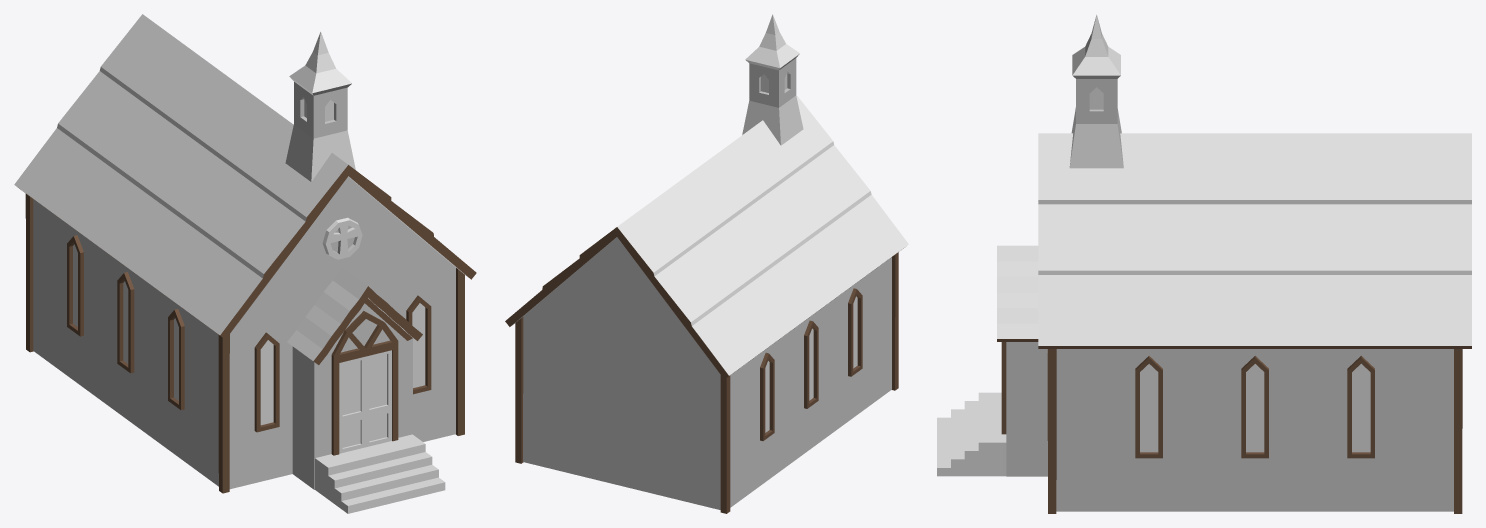
Rendered from western-church.fbx.
The picture shows the model from 3 angles, left to right: view 1: azimuth 30°, elevation 25°; view 2: azimuth 150°, elevation 25°; view 3: azimuth 270°, elevation 25°; orthographic projection. The views are drawn at different scales.
Parts seen in each view (by area): view 1: western-church; view 2: western-church; view 3: western-church.
Part boxes in pixels (<box>): western-church: <box>14,14,476,513</box>; western-church: <box>505,14,908,513</box>; western-church: <box>937,14,1471,513</box>.
Size of the model in its own units: 6.77 by 10.47 by 11.6.
